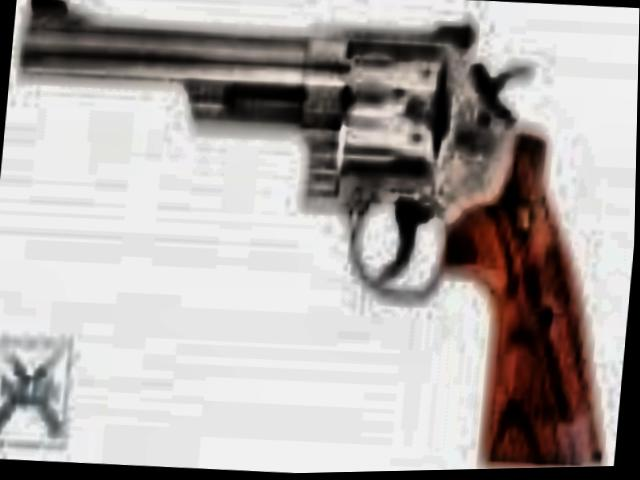pistol: (0, 0, 631, 476)
